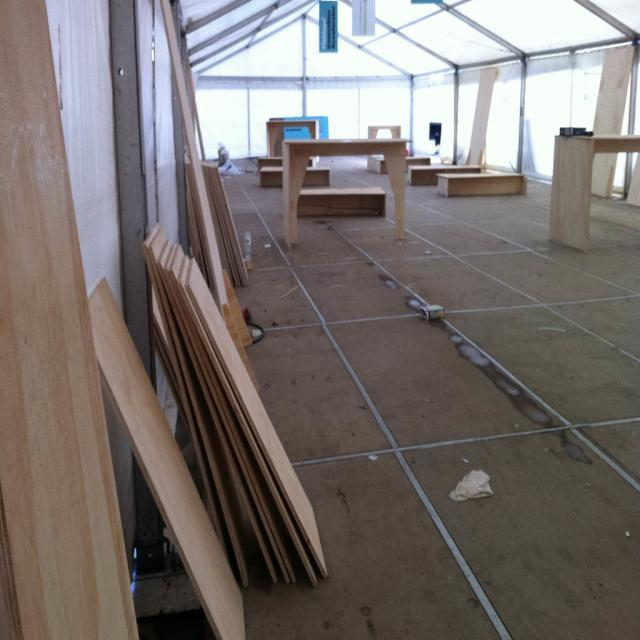desk: (283, 137, 412, 249)
